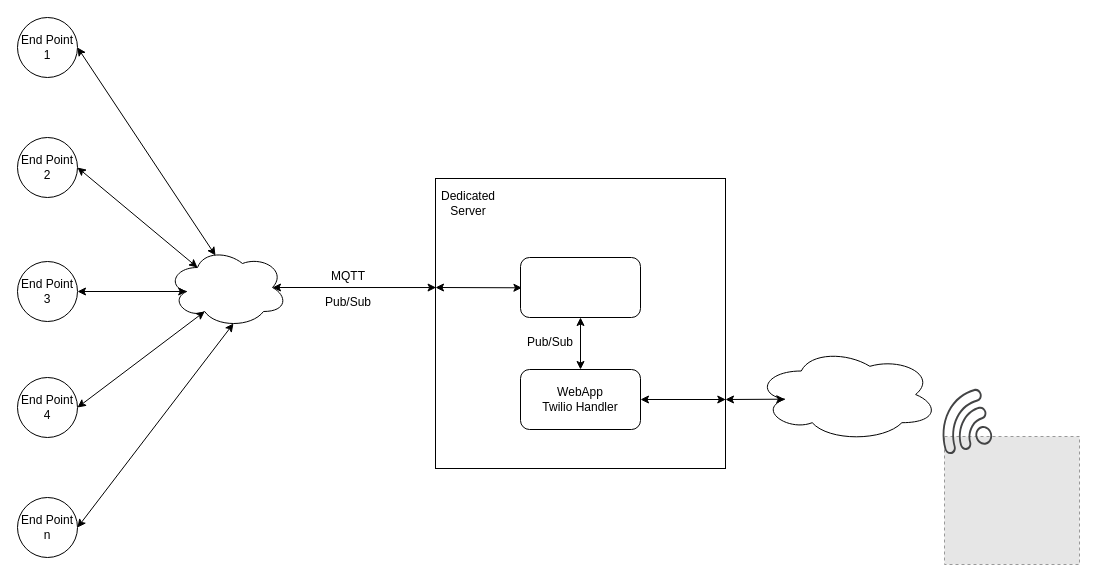
Image size: 1097x582. Some labels were removed from this diagram. Grey dashed boxes stand in for pictures. The centre of each missing label's shape, as x and y in pixels:
Eclipse Mosquitto Broker: point 580,287
Internet: point 227,287
Twilio SMS Webhook REST (POST): point 846,394
